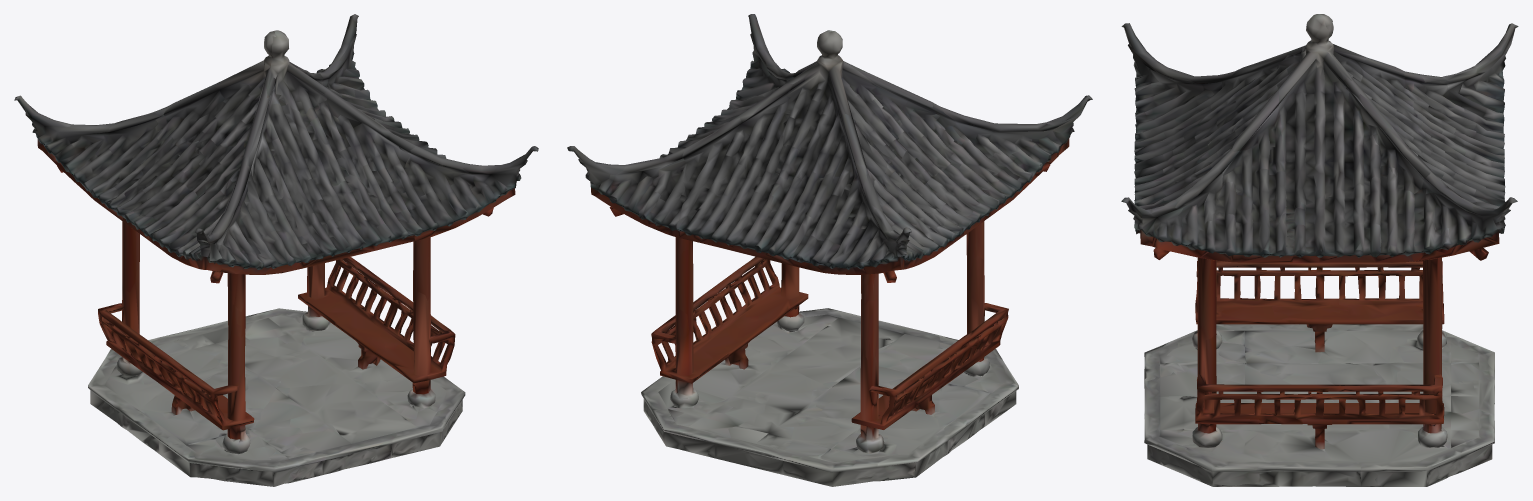
Rendered from station_凉亭.glb.
3 renders of one model, left to right at view 1: azimuth 30°, elevation 25°; view 2: azimuth 150°, elevation 25°; view 3: azimuth 270°, elevation 25°, orthographic. The views are drawn at different scales.
Parts seen in each view (by area): view 1: tripo_node_2a23c87a-5612-48ff-9f93-42c2329fee17; view 2: tripo_node_2a23c87a-5612-48ff-9f93-42c2329fee17; view 3: tripo_node_2a23c87a-5612-48ff-9f93-42c2329fee17.
Part boxes in pixels (x1,y1,x2,y2): tripo_node_2a23c87a-5612-48ff-9f93-42c2329fee17: (14, 14, 538, 486); tripo_node_2a23c87a-5612-48ff-9f93-42c2329fee17: (567, 14, 1092, 486); tripo_node_2a23c87a-5612-48ff-9f93-42c2329fee17: (1121, 14, 1518, 486).
Size of the model in its own units: 0.6002 by 0.6249 by 0.5613.
